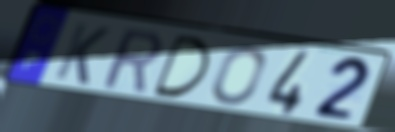2: (306, 56, 377, 125)
4: (264, 48, 312, 119)
D: (150, 33, 213, 100)
K: (51, 21, 114, 88)
O: (210, 45, 268, 107)
R: (99, 27, 164, 96)
